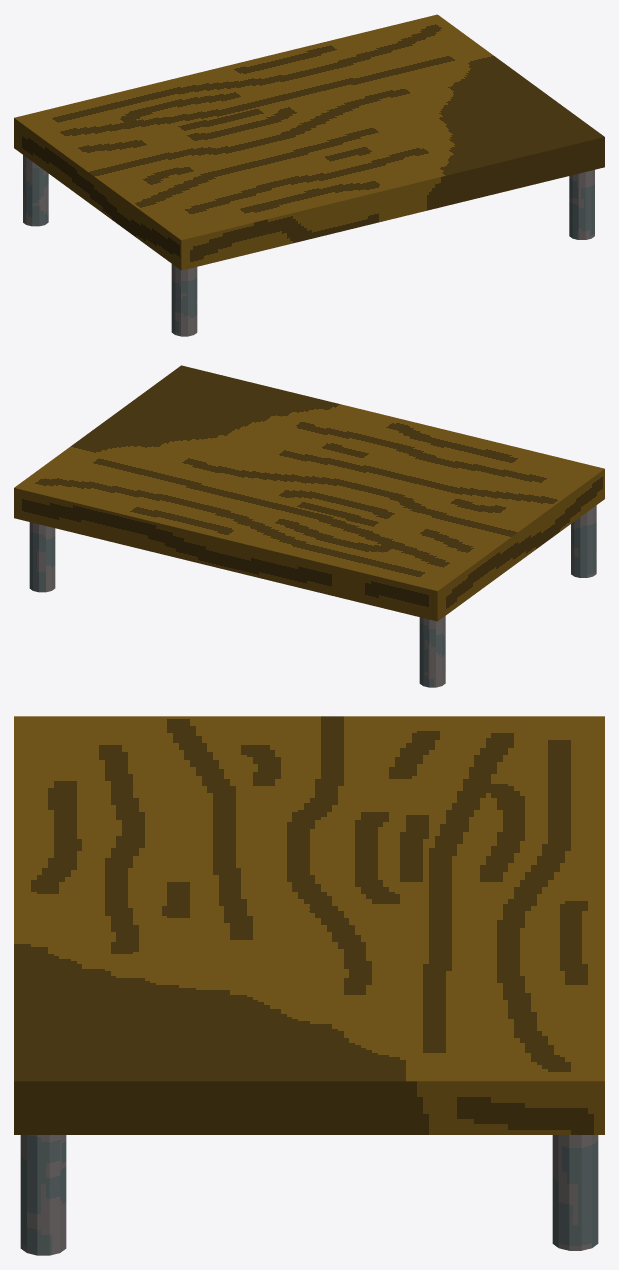
Rendered from GenericTable.gltf.
3 views of the same model, one above another, from view 1: azimuth 30°, elevation 25°; view 2: azimuth 150°, elevation 25°; view 3: azimuth 270°, elevation 25° (orthographic). The views are drawn at different scales.
Visible parts, largest first — view 1: Tabletop, cylinder (×3); view 2: Tabletop, cylinder (×3); view 3: Tabletop, cylinder (×2).
Boxes of the visible parts, bbox=[...] form: Tabletop: bbox=[14, 14, 604, 270]; cylinder (×3): bbox=[23, 155, 594, 336]; Tabletop: bbox=[14, 365, 604, 621]; cylinder (×3): bbox=[29, 505, 596, 687]; Tabletop: bbox=[14, 716, 604, 1134]; cylinder (×2): bbox=[20, 1135, 598, 1255].
Bounding box in the file's own units: 2.38 × 0.5375 × 1.62.
1 material, 1 textured.
